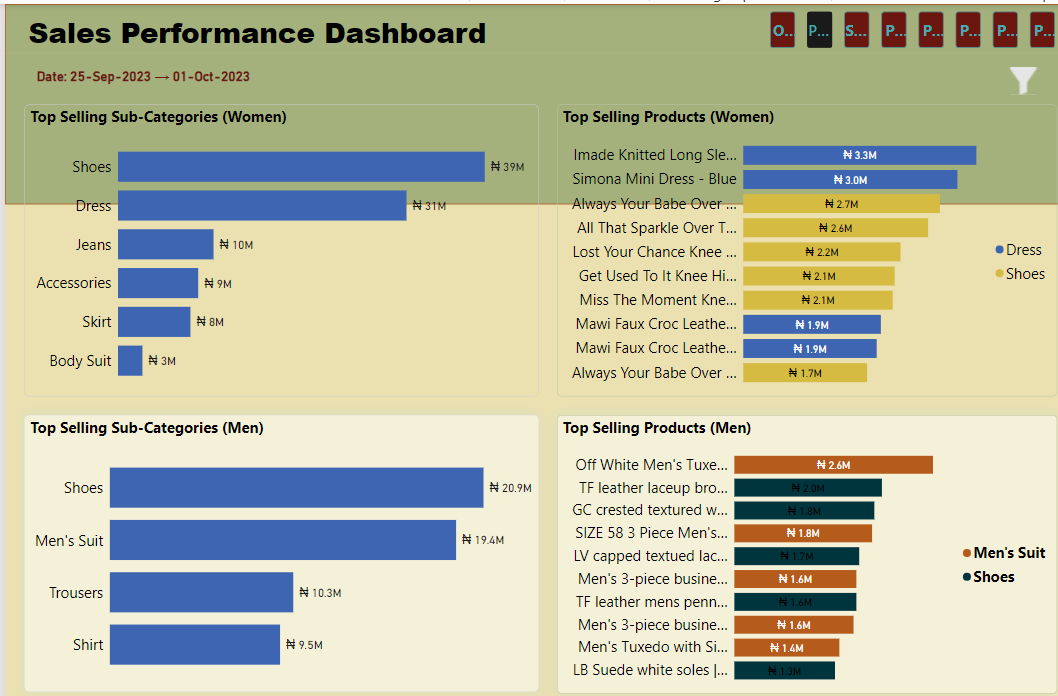

The dashboard page shown, as its layout file describes it:
{"tool":"powerbi","page":{"name":"Products","canvas":[1440,950],"ordinal":1},"visuals":[{"type":"shape","box":[0,0,1440,270],"z":0},{"type":"barChart","title":"Top Selling Products (Women)","fields":{"Category":["Product.ProductName"],"Y":["DAX Measure.Sales LW"],"Series":["Product.SubCategory"]},"box":[743.9,136,673.9,393.6],"z":1000},{"type":"barChart","title":"Top Selling Products (Men)","fields":{"Category":["Product.ProductName"],"Y":["DAX Measure.Sales LW"],"Series":["Product.SubCategory"]},"box":[743.9,554.3,673.9,375.1],"z":2000},{"type":"barChart","title":"Top Selling Sub-Categories (Men)","fields":{"Y":["DAX Measure.Sales LW"],"Category":["Product.SubCategory"]},"box":[26.8,554.3,692.4,373],"z":3000},{"type":"barChart","title":"Top Selling Sub-Categories (Women)","fields":{"Y":["DAX Measure.Sales LW"],"Category":["Product.SubCategory"]},"box":[26.8,136,692.4,393.6],"z":4000},{"type":"textbox","box":[26.3,6.1,665,64.7],"z":5000},{"type":"shape","box":[0,37.1,1438.4,59.8],"z":6000},{"type":"pageNavigator","box":[1030.4,10.3,389.5,49.5],"z":7000},{"type":"card","fields":{"Values":["DAX Measure.Date Range"]},"box":[26.8,72.1,319.4,49.5],"z":8000},{"type":"actionButton","box":[1323,80.4,96.9,45.3],"z":10000}]}

Visuals, with their boxes in screenshot pixels (x1, y1, x2, y2), scaled from the page's 1440x950 canvas onto the 1058x696 screenshot:
shape: bbox=(0, 0, 1057, 198)
"Top Selling Products (Women)" barChart: bbox=(547, 100, 1042, 388)
"Top Selling Products (Men)" barChart: bbox=(547, 406, 1042, 681)
"Top Selling Sub-Categories (Men)" barChart: bbox=(20, 406, 528, 679)
"Top Selling Sub-Categories (Women)" barChart: bbox=(20, 100, 528, 388)
textbox: bbox=(19, 4, 508, 52)
shape: bbox=(0, 27, 1057, 71)
pageNavigator: bbox=(757, 8, 1043, 44)
card - DAX Measure.Date Range: bbox=(20, 53, 254, 89)
actionButton: bbox=(972, 59, 1043, 92)
